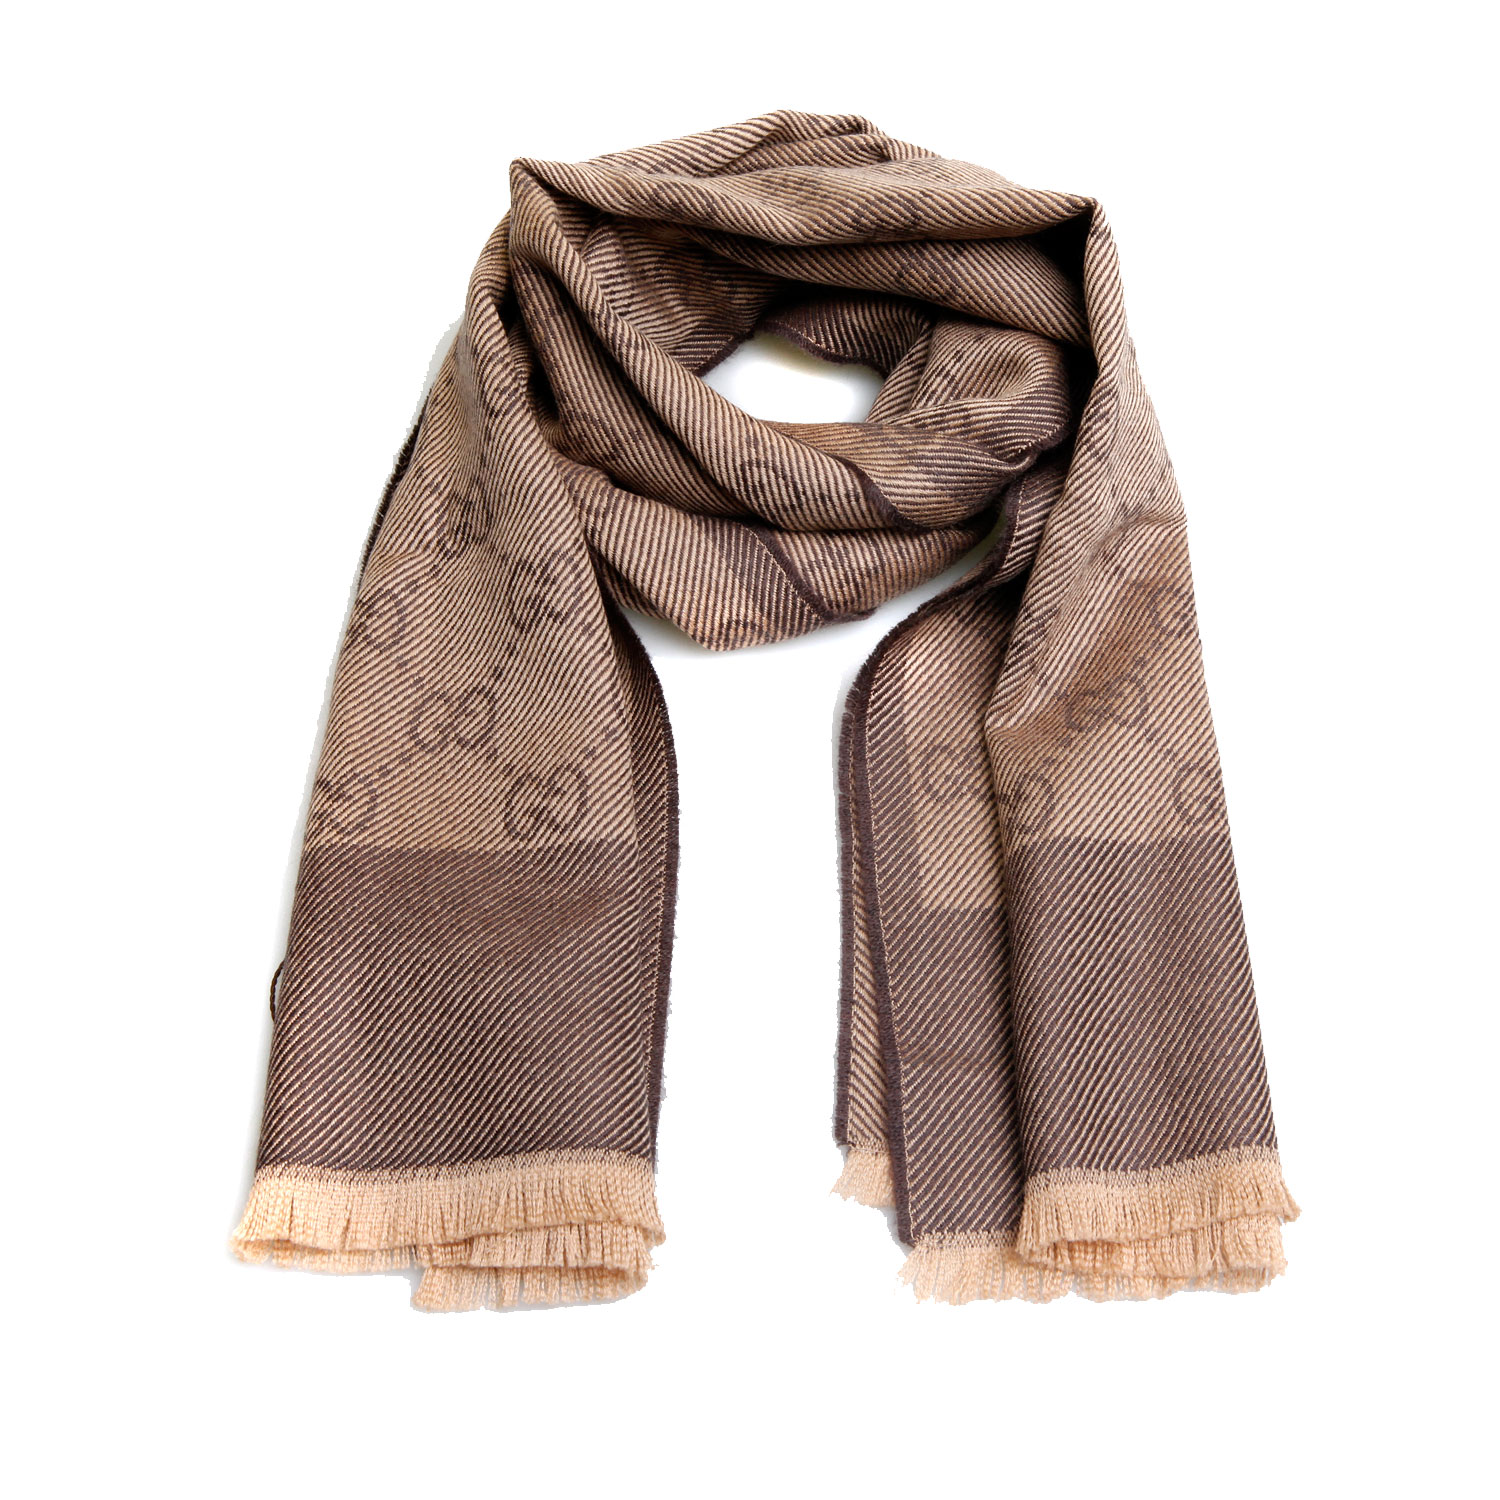flexible: (247, 113, 1315, 1320)
